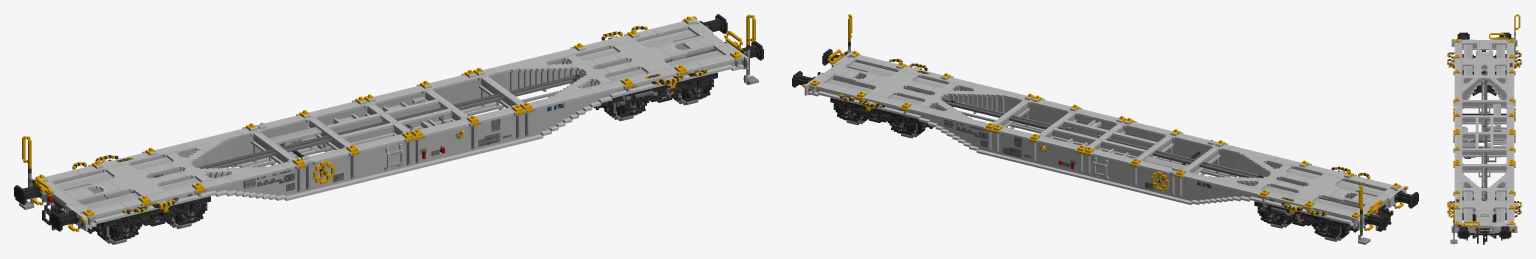
Rendered from aae_sgns_60.obj.
3 views of the same model, side by side, from view 1: azimuth 30°, elevation 25°; view 2: azimuth 150°, elevation 25°; view 3: azimuth 270°, elevation 25° (orthographic). The views are drawn at different scales.
Parts seen in each view (by area): view 1: FRAME_1, FRAME_2, Braker_Valve, Braker_1, BOGEY_FRONT_Frame, BOGEY_REAR_Frame, BOGEY_FRONT_Primary_Suspension, Braker_Mechahhhnism, BOGEY_REAR_Primary_Suspension, Handbrake_Mount; view 2: FRAME_1, FRAME_2, Braker_Valve, Braker_1, BOGEY_FRONT_Frame, BOGEY_REAR_Frame, BOGEY_REAR_Primary_Suspension, BOGEY_FRONT_Primary_Suspension, Braker_Mechahhhnism; view 3: FRAME_1, FRAME_2, Braker_Mechahhhnism, Braker_Valve, Braker_1, BOGEY_REAR_Frame, BOGEY_FRONT_Frame, Handbrake_Mount, WIDGET_67_TOGGLE_CG_h1_HIDE_INVERT, WIDGET_70_TOGGLE_CG_h2_HIDE_INVERT, WIDGET_69_TOGGLE_CG_h2_HIDE, WIDGET_68_TOGGLE_CG_h1_HIDE (+1 smaller).
Boxes of the visible parts, bbox=[...] form: FRAME_1: bbox=[14, 100, 417, 231]; FRAME_2: bbox=[368, 14, 763, 169]; Braker_Valve: bbox=[395, 48, 715, 159]; Braker_1: bbox=[154, 121, 387, 177]; BOGEY_FRONT_Frame: bbox=[87, 196, 210, 233]; BOGEY_REAR_Frame: bbox=[593, 72, 717, 109]; BOGEY_FRONT_Primary_Suspension: bbox=[110, 202, 203, 241]; Braker_Mechahhhnism: bbox=[246, 90, 560, 167]; BOGEY_REAR_Primary_Suspension: bbox=[617, 78, 710, 117]; Handbrake_Mount: bbox=[269, 127, 321, 146]; FRAME_1: bbox=[1082, 121, 1418, 244]; FRAME_2: bbox=[792, 49, 1122, 178]; Braker_Valve: bbox=[917, 91, 1101, 169]; Braker_1: bbox=[1106, 138, 1359, 208]; BOGEY_FRONT_Frame: bbox=[1254, 201, 1357, 232]; BOGEY_REAR_Frame: bbox=[830, 98, 933, 128]; BOGEY_REAR_Primary_Suspension: bbox=[837, 103, 914, 135]; BOGEY_FRONT_Primary_Suspension: bbox=[1260, 206, 1338, 238]; Braker_Mechahhhnism: bbox=[959, 111, 1229, 177]; FRAME_1: bbox=[1447, 32, 1521, 142]; FRAME_2: bbox=[1447, 132, 1521, 244]; Braker_Mechahhhnism: bbox=[1463, 84, 1506, 200]; Braker_Valve: bbox=[1462, 136, 1487, 200]; Braker_1: bbox=[1462, 72, 1487, 142]; BOGEY_REAR_Frame: bbox=[1462, 196, 1506, 238]; BOGEY_FRONT_Frame: bbox=[1462, 54, 1506, 95]; Handbrake_Mount: bbox=[1493, 103, 1500, 127]; WIDGET_67_TOGGLE_CG_h1_HIDE_INVERT: bbox=[1489, 33, 1515, 39]; WIDGET_70_TOGGLE_CG_h2_HIDE_INVERT: bbox=[1453, 221, 1479, 226]; WIDGET_69_TOGGLE_CG_h2_HIDE: bbox=[1448, 202, 1454, 225]; WIDGET_68_TOGGLE_CG_h1_HIDE: bbox=[1514, 14, 1520, 38].
Size of the model in its own units: 19.69 by 2.31 by 3.12.
Materials: 1 (1 with a texture image).
